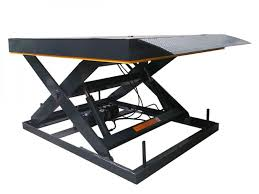Scissor Lift: (7, 34, 253, 185)
